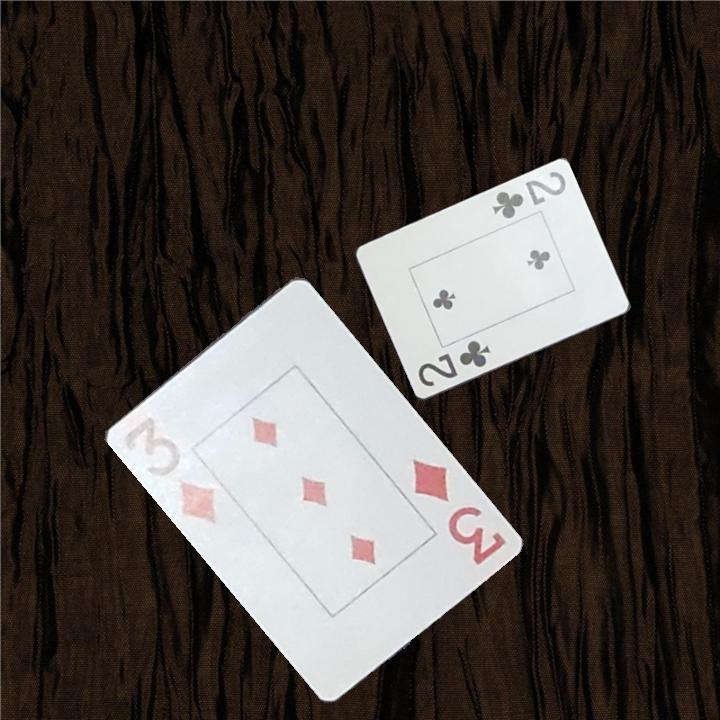2c: (488, 168, 569, 222), (414, 337, 494, 390)
3d: (118, 406, 222, 527), (407, 455, 509, 569)
